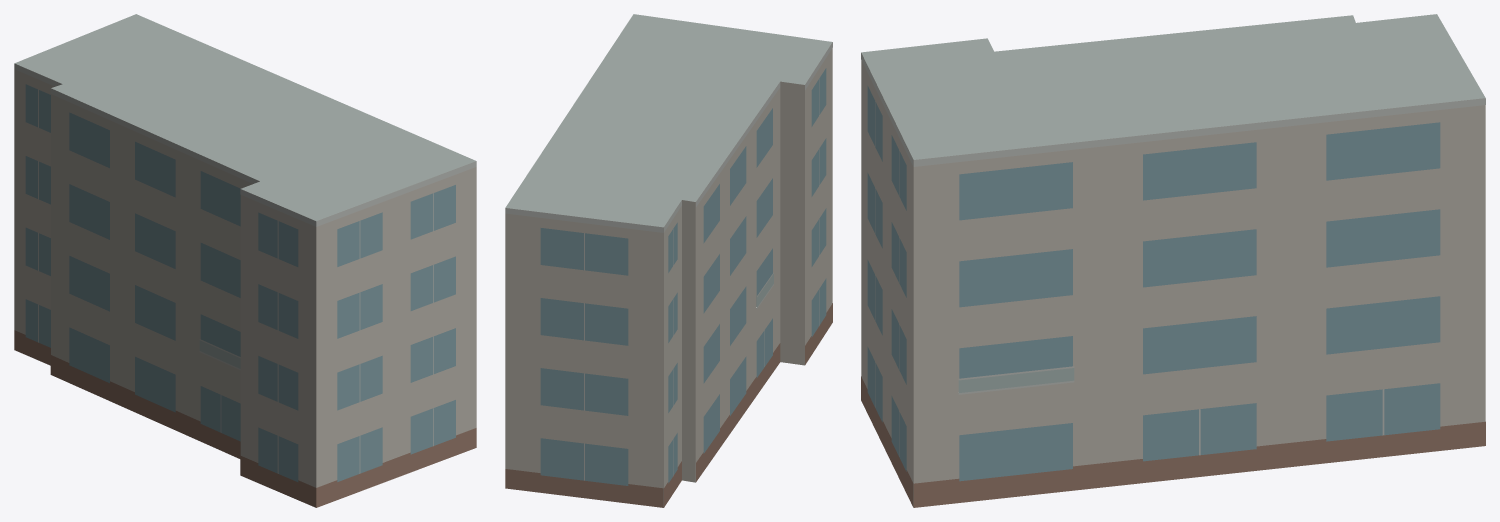
The model's file is survey-upis-32651085.glb.
The picture shows the model from 3 angles, left to right: view 1: azimuth 30°, elevation 25°; view 2: azimuth 150°, elevation 25°; view 3: azimuth 270°, elevation 25°; orthographic projection. The views are drawn at different scales.
Visible parts, largest first — view 1: survey-upis-32651085.tmp; view 2: survey-upis-32651085.tmp; view 3: survey-upis-32651085.tmp.
Part boxes in pixels (x1,y1,x2,y2): survey-upis-32651085.tmp: [14, 14, 476, 507]; survey-upis-32651085.tmp: [505, 14, 832, 507]; survey-upis-32651085.tmp: [861, 14, 1485, 507].
Bounding box in the file's own units: 10.99 × 12.2 × 19.87.
